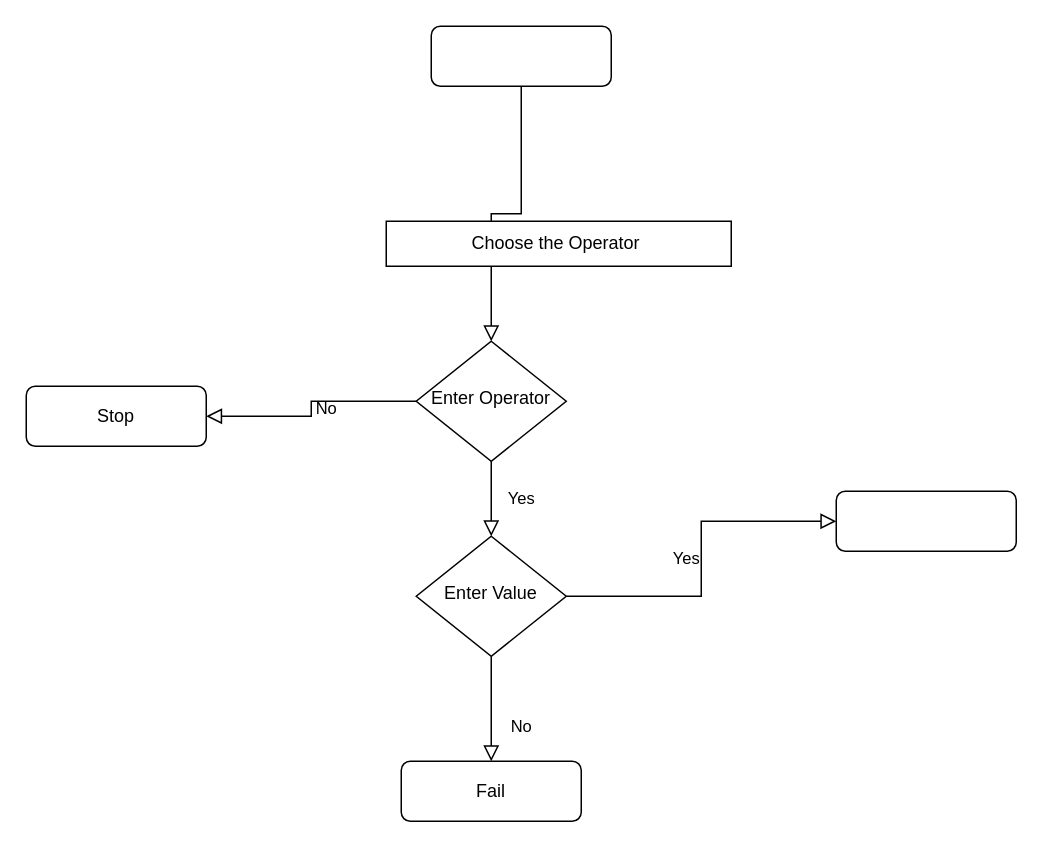
Image size: 1043x848. Some labels were removed from this diagram. Each missing label, with the centre of its shape:
Result: the point at 925,520
Start: the point at 520,55
